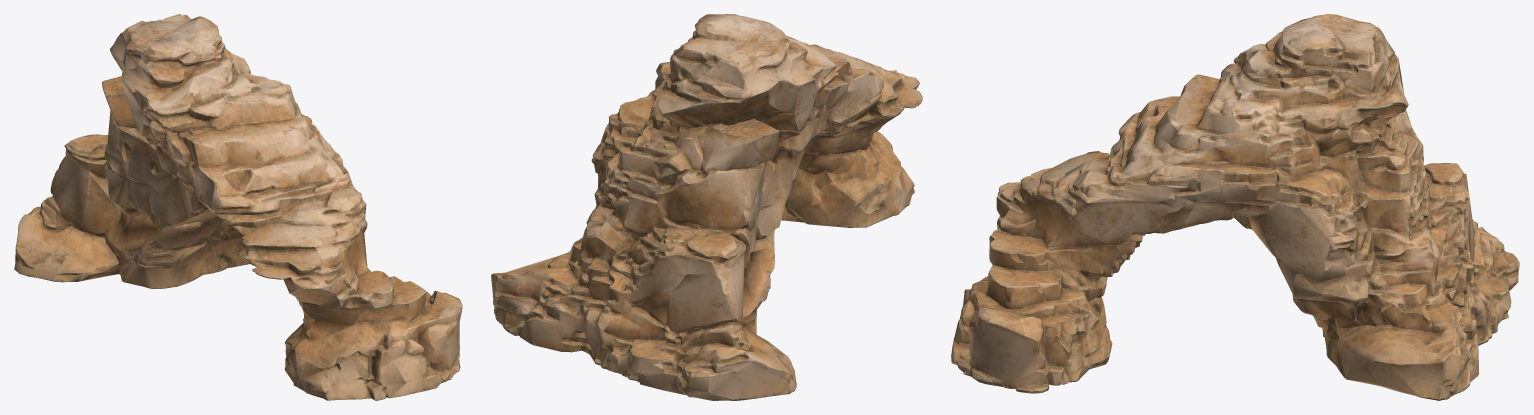
The model's file is rock_slab_a.glb.
The picture shows the model from 3 angles, left to right: view 1: azimuth 30°, elevation 25°; view 2: azimuth 150°, elevation 25°; view 3: azimuth 270°, elevation 25°; orthographic projection. The views are drawn at different scales.
Parts seen in each view (by area): view 1: model.011; view 2: model.011; view 3: model.011.
Boxes of the visible parts, box(x1,y1,x2,y2) form: model.011: box(14, 14, 462, 400); model.011: box(491, 14, 922, 400); model.011: box(951, 14, 1519, 400).
Size of the model in its own units: 1.16 by 1.06 by 1.9.
1 material, 1 textured.
